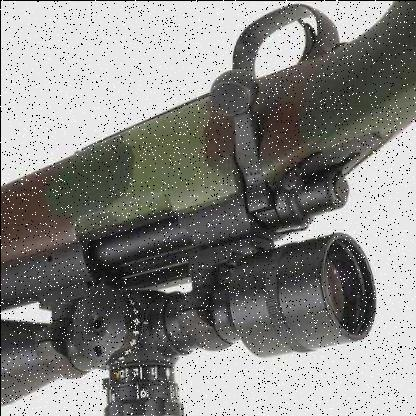rifle: (47, 1, 416, 408)
